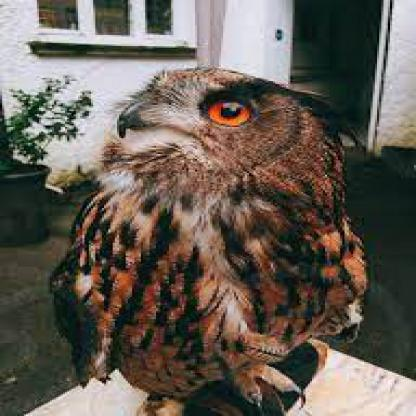owl: (43, 43, 414, 414)
